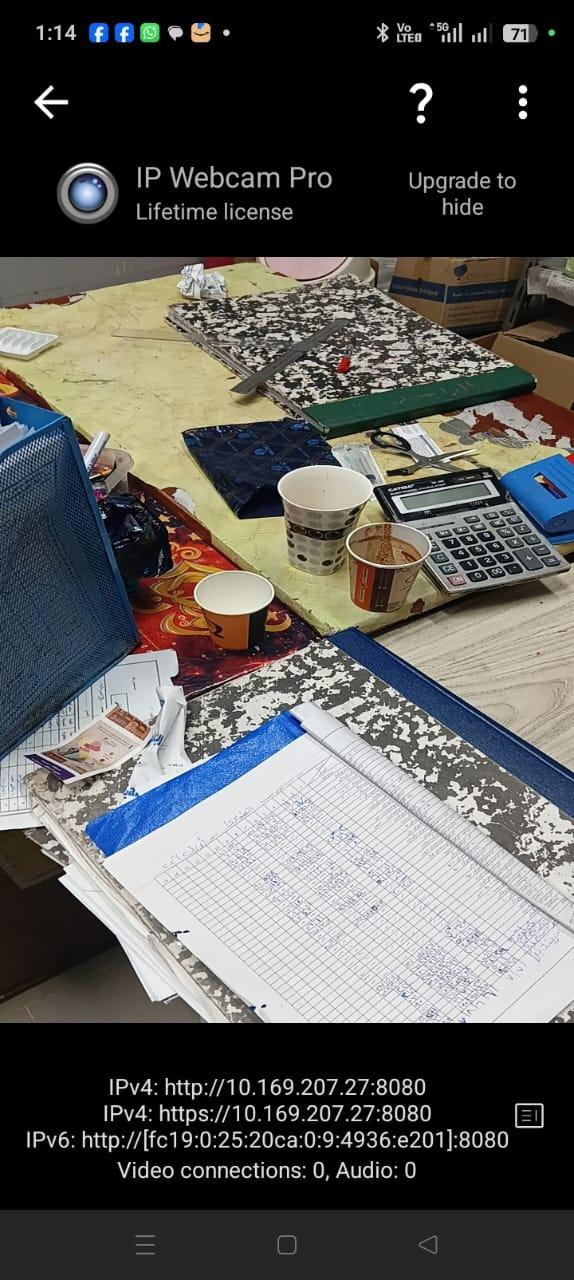cup: (278, 465, 371, 574), (346, 522, 430, 611), (194, 570, 273, 650)
